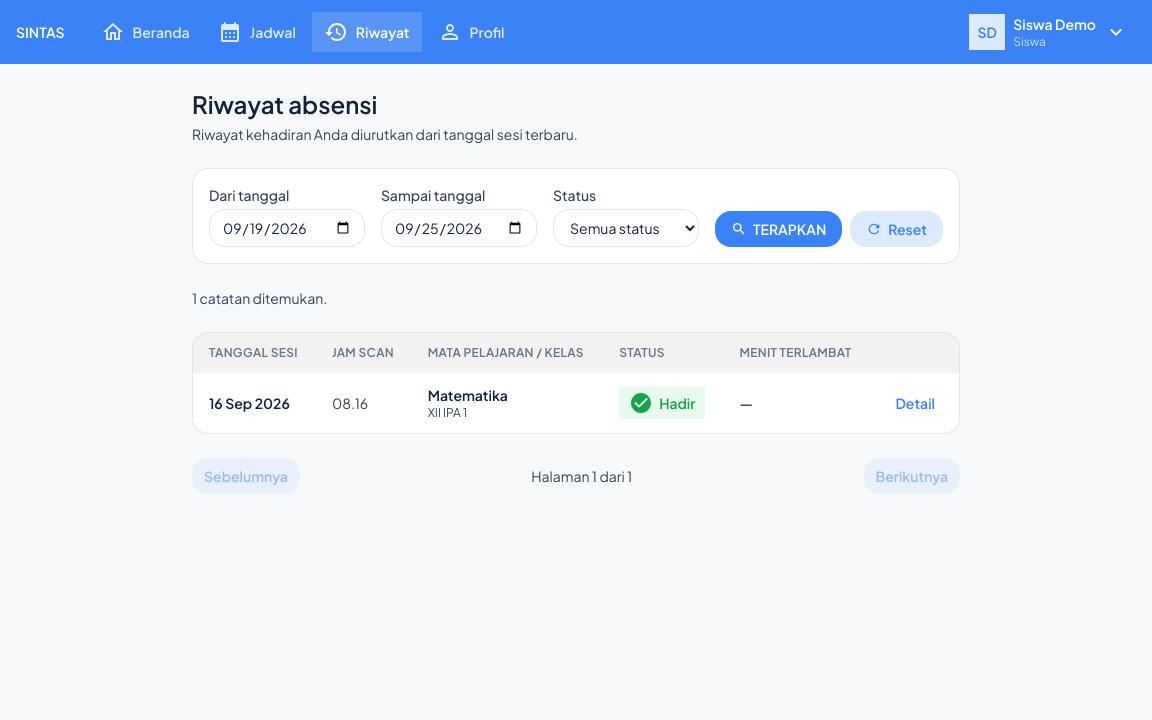
it: halaman riwayat siswa › menampilkan state kosong dan reset memulihkan data default
The image size is (1152, 720).
Check: the text "1 catatan ditemukan." is shown, box [192,289,327,307]
Select "Hadir" in the dropdown labelled "Status" at (626, 228), box [553,209,699,247]
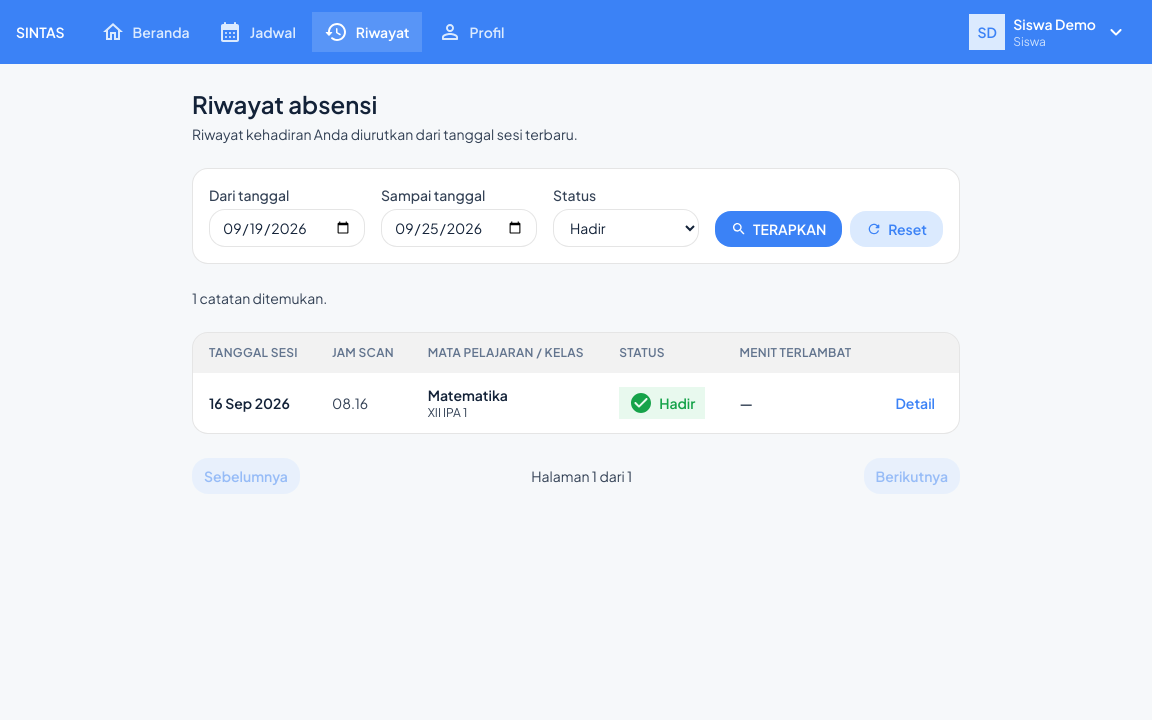
Click the button "Terapkan".
click(779, 229)  # box [715,211,842,247]
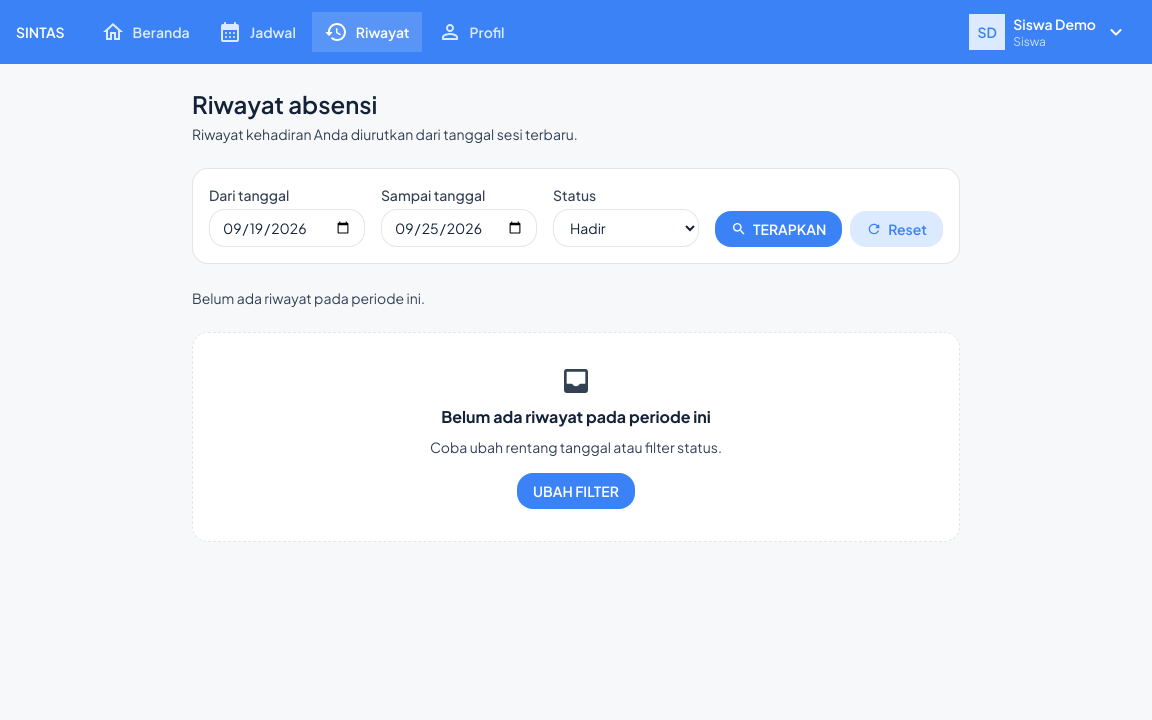
Check: the heading "Belum ada riwayat pada periode ini" is shown, box [441,405,711,429]
Click the button "Ubah filter".
click(576, 491)  # box [517,473,635,509]
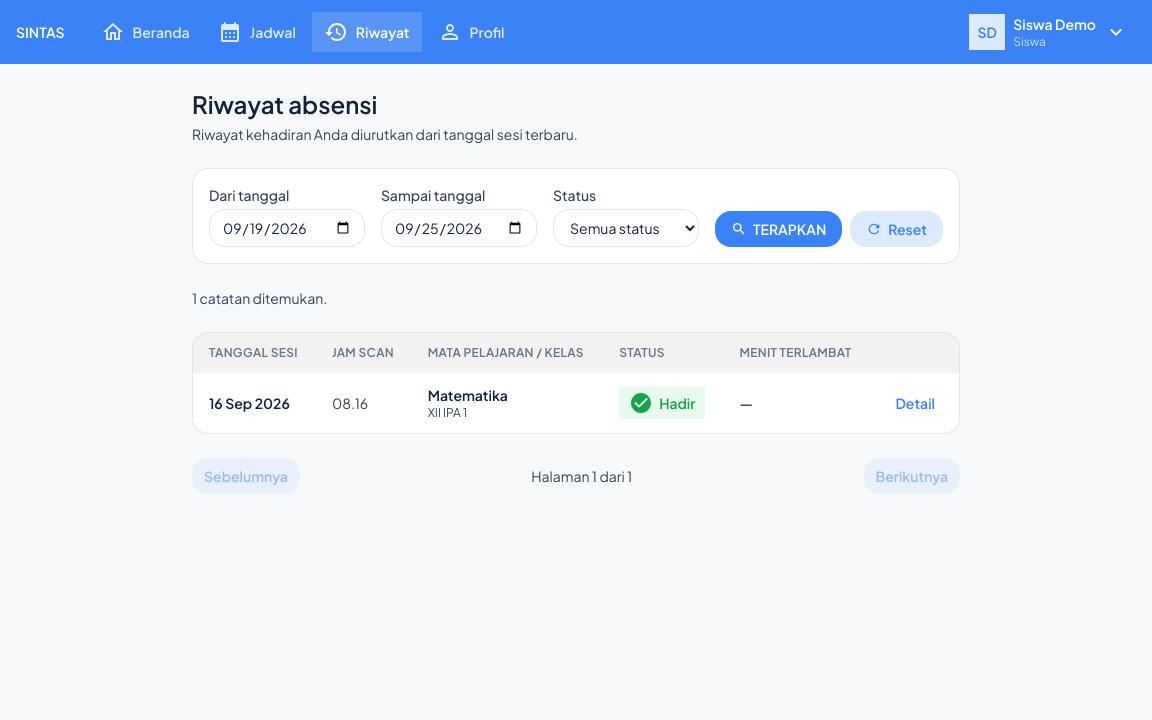
Check: the text "1 catatan ditemukan." is shown, box [192,289,327,307]
